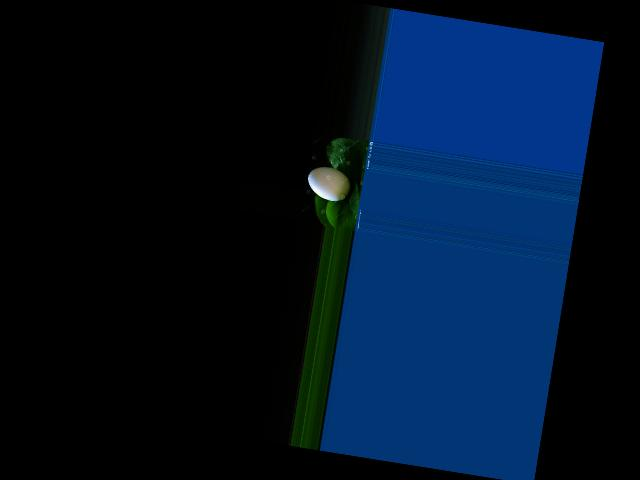egg: (305, 164, 353, 203)
